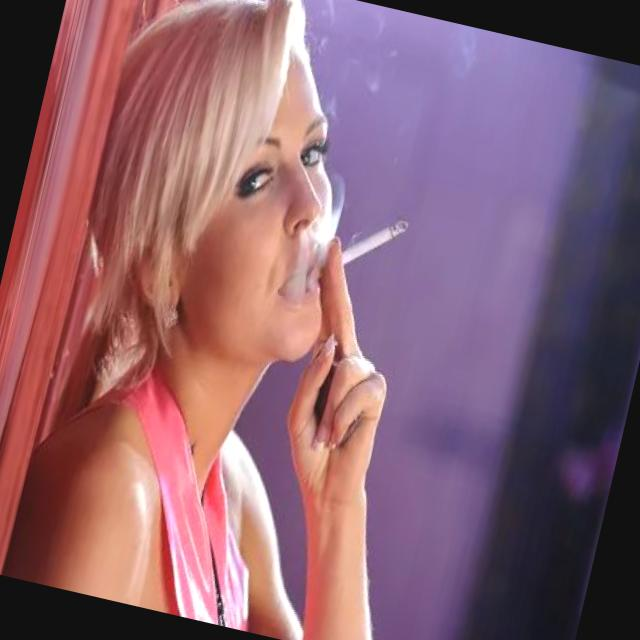cigarette: (334, 202, 409, 280)
